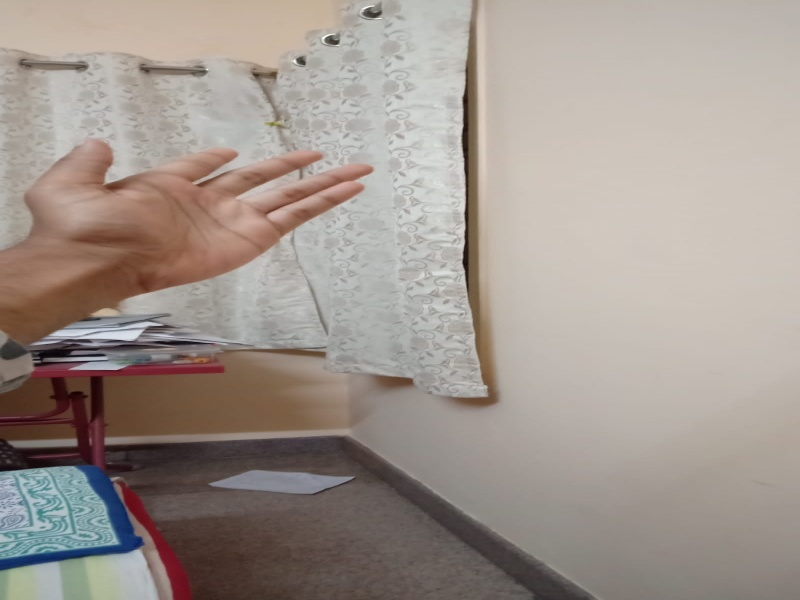Hand: (9, 124, 375, 300)
